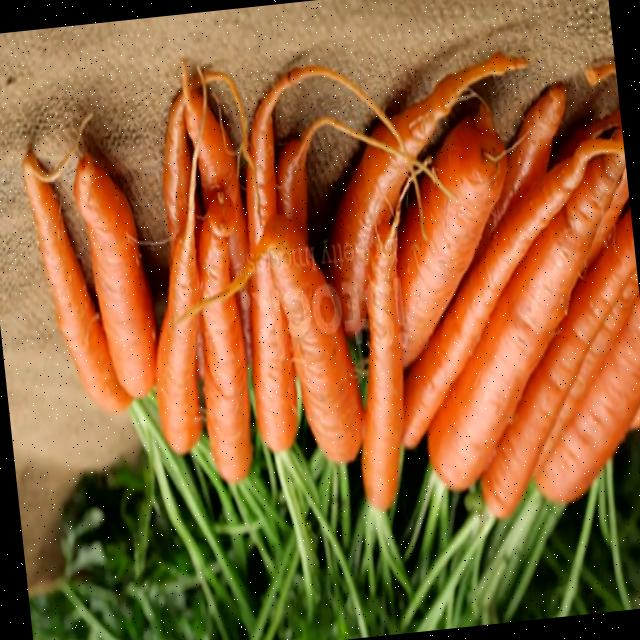carrot: (426, 153, 625, 489), (402, 140, 590, 446), (481, 208, 636, 516), (325, 73, 465, 333), (22, 148, 129, 412), (396, 113, 505, 366), (268, 213, 361, 459), (534, 293, 640, 500), (533, 269, 638, 472), (181, 60, 250, 359), (73, 153, 155, 396), (245, 92, 296, 450), (197, 189, 251, 481), (476, 83, 565, 254), (360, 209, 402, 509), (155, 209, 201, 453), (161, 91, 190, 242), (275, 133, 312, 239)
